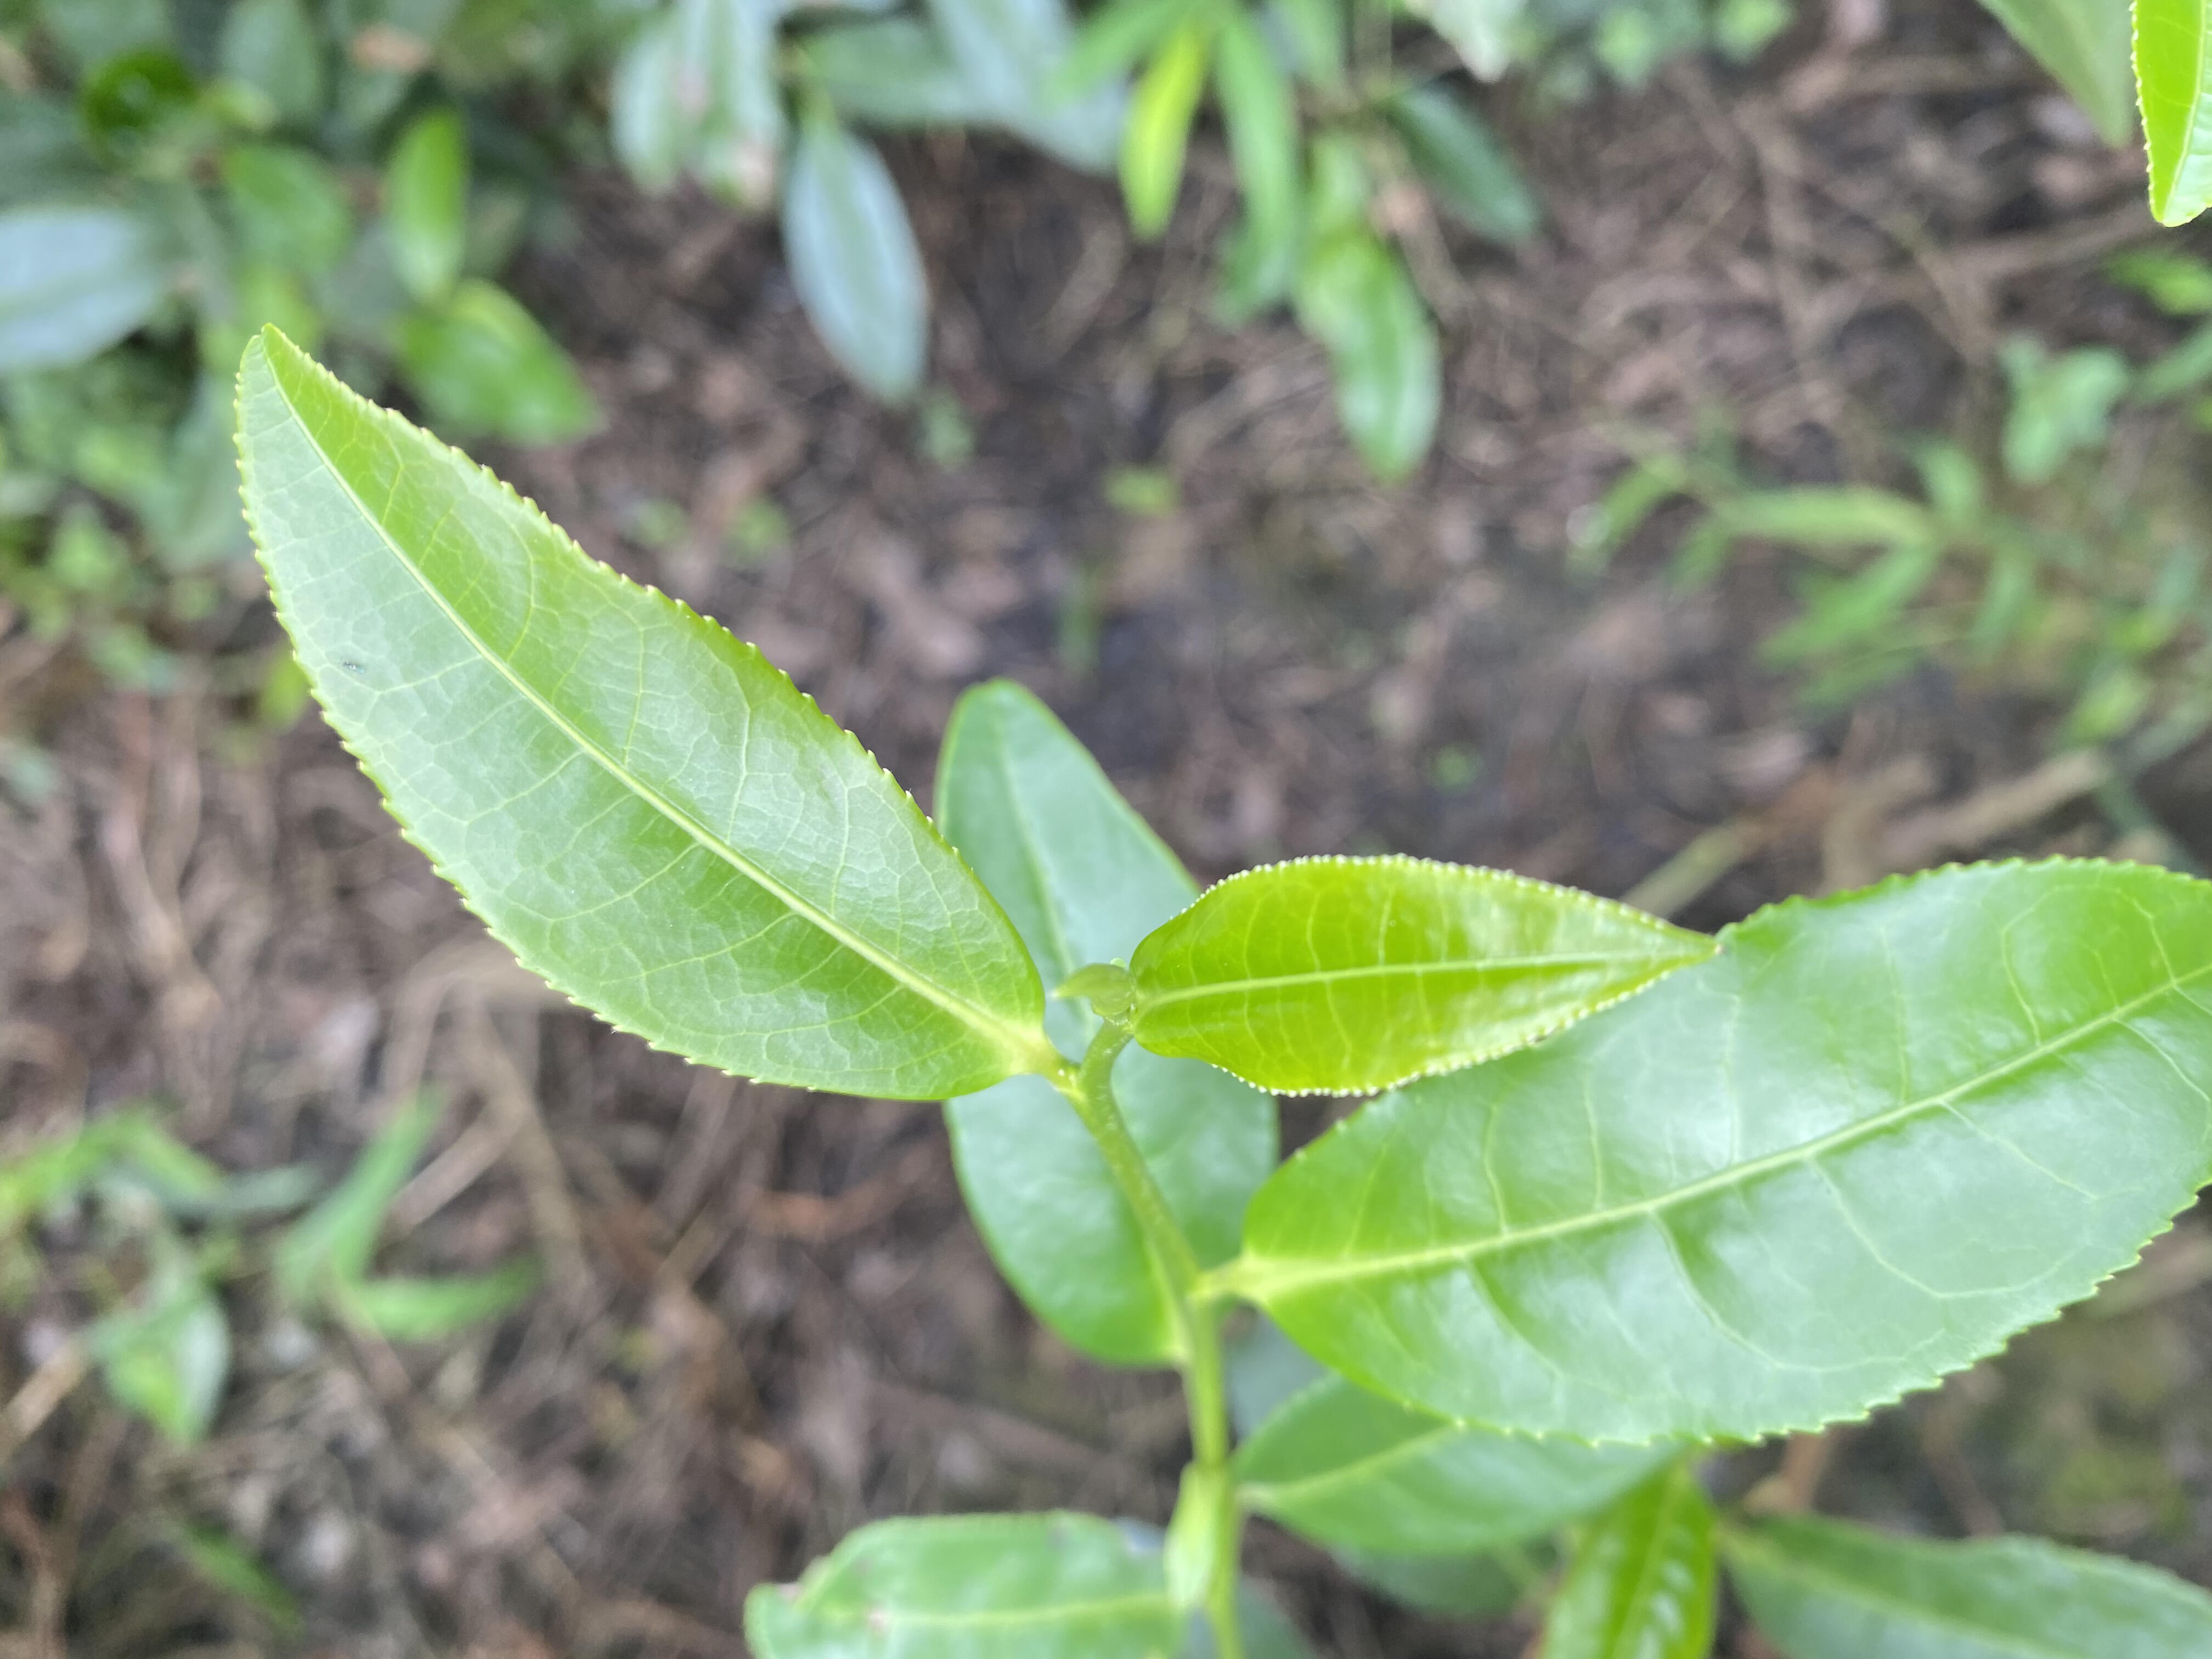healthy: (228, 322, 1045, 1103), (1245, 856, 2209, 1450), (1125, 850, 1721, 1103)
